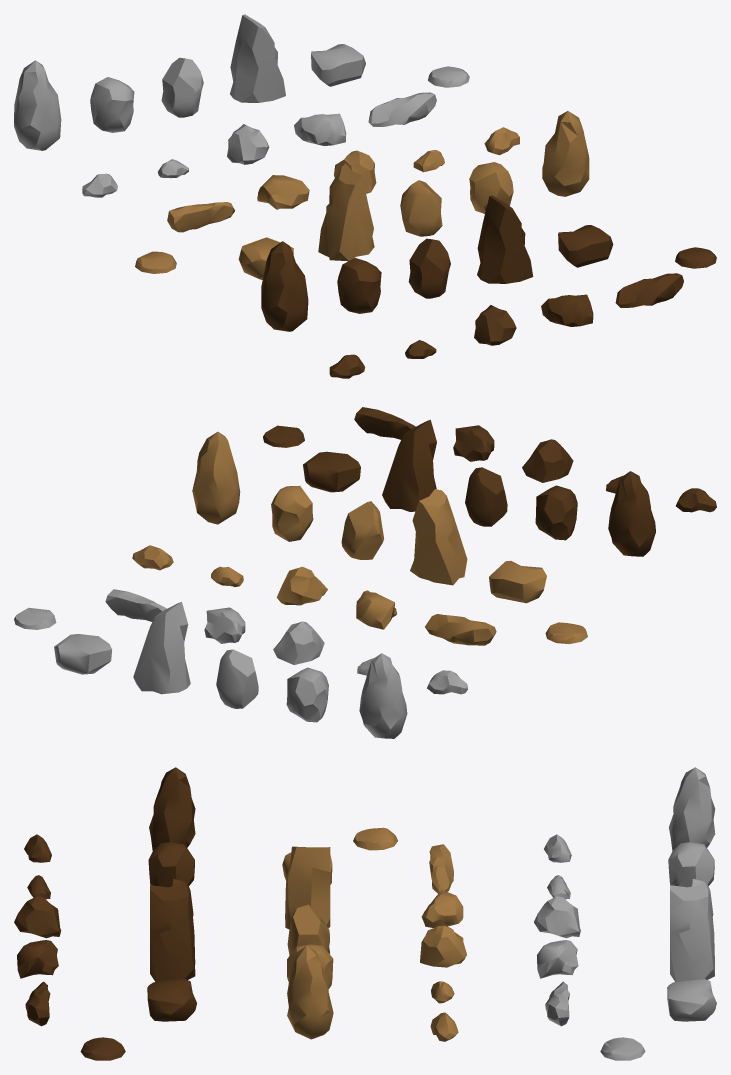
Rendered from simple_low_poly_rocks.fbx.
3 renders of one model, top to bottom at view 1: azimuth 30°, elevation 25°; view 2: azimuth 150°, elevation 25°; view 3: azimuth 270°, elevation 25°, orthographic. The views are drawn at different scales.
Parts seen in each view (by area): view 1: low_poly_rock_9.001, low_poly_rock_9, low_poly_rock_9.002, low_poly_rock_1.002, low_poly_rock_1, low_poly_rock_1.001, low_poly_rock_2, low_poly_rock_2.002, low_poly_rock_8.002, low_poly_rock_8, low_poly_rock_8.001, low_poly_rock_10.002 (+18 smaller); view 2: low_poly_rock_9.001, low_poly_rock_9, low_poly_rock_9.002, low_poly_rock_1.001, low_poly_rock_1, low_poly_rock_1.002, low_poly_rock_8, low_poly_rock_8.002, low_poly_rock_8.001, low_poly_rock_2.001, low_poly_rock_2, low_poly_rock_2.002 (+18 smaller); view 3: low_poly_rock_9.002, low_poly_rock_9, low_poly_rock_1.001, low_poly_rock_9.001, low_poly_rock_1.002, low_poly_rock_1, low_poly_rock_10, low_poly_rock_10.002, low_poly_rock_2, low_poly_rock_2.002, low_poly_rock_3.001, low_poly_rock_8.001 (+15 smaller).
Boxes of the visible parts, x1,y1,x2,y2 form: low_poly_rock_9.001: (318, 163, 374, 261); low_poly_rock_9: (230, 14, 285, 102); low_poly_rock_9.002: (477, 195, 533, 283); low_poly_rock_1.002: (261, 241, 308, 331); low_poly_rock_1: (14, 60, 61, 150); low_poly_rock_1.001: (542, 111, 589, 196); low_poly_rock_2: (90, 77, 134, 132); low_poly_rock_2.002: (337, 258, 381, 313); low_poly_rock_8.002: (408, 238, 450, 298); low_poly_rock_8: (161, 57, 203, 117); low_poly_rock_8.001: (400, 180, 442, 236); low_poly_rock_10.002: (558, 225, 613, 267); low_poly_rock_9.001: (410, 489, 467, 585); low_poly_rock_9: (133, 602, 190, 694); low_poly_rock_9.002: (382, 419, 436, 511); low_poly_rock_1.001: (192, 431, 240, 524); low_poly_rock_1: (359, 653, 407, 738); low_poly_rock_1.002: (608, 471, 655, 556); low_poly_rock_8: (216, 649, 258, 708); low_poly_rock_8.002: (465, 467, 507, 526); low_poly_rock_8.001: (341, 501, 383, 559); low_poly_rock_2.001: (271, 485, 313, 541); low_poly_rock_2: (286, 667, 328, 722); low_poly_rock_2.002: (535, 485, 577, 540); low_poly_rock_9.002: (150, 885, 195, 981); low_poly_rock_9: (670, 885, 714, 981); low_poly_rock_1.001: (287, 945, 333, 1039); low_poly_rock_9.001: (285, 846, 330, 929); low_poly_rock_1.002: (149, 767, 195, 850); low_poly_rock_1: (669, 767, 715, 850); low_poly_rock_10: (667, 979, 716, 1021); low_poly_rock_10.002: (147, 979, 196, 1021); low_poly_rock_2: (668, 842, 714, 886); low_poly_rock_2.002: (148, 842, 194, 886); low_poly_rock_3.001: (420, 925, 466, 967); low_poly_rock_8.001: (287, 904, 329, 955).
Bounding box in the file's own units: 31.09 × 4.69 × 23.94.
